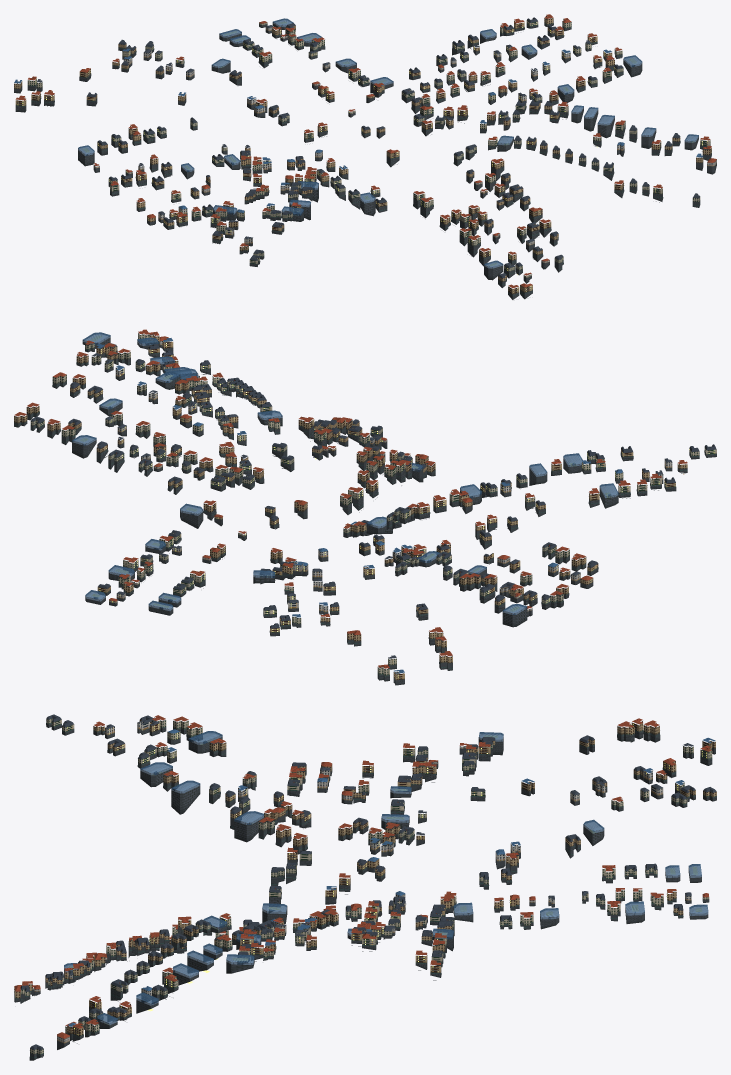
File: osm_buildings_T_E00_S02_Q4.glb
3 views of the same model, one above another, from view 1: azimuth 30°, elevation 25°; view 2: azimuth 150°, elevation 25°; view 3: azimuth 270°, elevation 25° (orthographic). The views are drawn at different scales.
Visible parts, largest first — view 1: OSM_T_E00_S02_Q4_foundation, OSM_T_E00_S02_Q4_wall_french_ochre, OSM_T_E00_S02_Q4_wall_cream_stucco, OSM_T_E00_S02_Q4_roof_terracotta, OSM_T_E00_S02_Q4_roof_mansard_slate, OSM_T_E00_S02_Q4_greenhouse_blend, OSM_T_E00_S02_Q4_roof_mansard_deck, OSM_T_E00_S02_Q4_roof_mint_metal, OSM_T_E00_S02_Q4_balcony_railing, OSM_T_E00_S02_Q4_wall_warm_white, OSM_T_E00_S02_Q4_trim_cornice, OSM_T_E00_S02_Q4_wall_pastel_sand (+1 smaller); view 2: OSM_T_E00_S02_Q4_foundation, OSM_T_E00_S02_Q4_wall_french_ochre, OSM_T_E00_S02_Q4_wall_cream_stucco, OSM_T_E00_S02_Q4_roof_terracotta, OSM_T_E00_S02_Q4_roof_mansard_slate, OSM_T_E00_S02_Q4_greenhouse_blend, OSM_T_E00_S02_Q4_roof_mansard_deck, OSM_T_E00_S02_Q4_roof_mint_metal, OSM_T_E00_S02_Q4_trim_cornice, OSM_T_E00_S02_Q4_wall_warm_white, OSM_T_E00_S02_Q4_balcony_railing, OSM_T_E00_S02_Q4_roof_alpine_blue (+2 smaller); view 3: OSM_T_E00_S02_Q4_foundation, OSM_T_E00_S02_Q4_wall_french_ochre, OSM_T_E00_S02_Q4_wall_cream_stucco, OSM_T_E00_S02_Q4_greenhouse_blend, OSM_T_E00_S02_Q4_roof_terracotta, OSM_T_E00_S02_Q4_roof_mansard_slate, OSM_T_E00_S02_Q4_roof_mansard_deck, OSM_T_E00_S02_Q4_roof_mint_metal, OSM_T_E00_S02_Q4_trim_cornice, OSM_T_E00_S02_Q4_wall_warm_white, OSM_T_E00_S02_Q4_roof_alpine_blue, OSM_T_E00_S02_Q4_wall_pastel_sand (+2 smaller).
Part boxes in pixels (x1,y1,x2,y2): OSM_T_E00_S02_Q4_foundation: [14, 23, 716, 299]; OSM_T_E00_S02_Q4_wall_french_ochre: [14, 16, 711, 294]; OSM_T_E00_S02_Q4_wall_cream_stucco: [27, 19, 710, 277]; OSM_T_E00_S02_Q4_roof_terracotta: [15, 14, 716, 288]; OSM_T_E00_S02_Q4_roof_mansard_slate: [37, 17, 700, 278]; OSM_T_E00_S02_Q4_greenhouse_blend: [78, 18, 698, 268]; OSM_T_E00_S02_Q4_roof_mansard_deck: [78, 17, 698, 276]; OSM_T_E00_S02_Q4_roof_mint_metal: [16, 23, 708, 295]; OSM_T_E00_S02_Q4_balcony_railing: [17, 24, 711, 292]; OSM_T_E00_S02_Q4_wall_warm_white: [93, 27, 624, 245]; OSM_T_E00_S02_Q4_trim_cornice: [17, 18, 716, 290]; OSM_T_E00_S02_Q4_wall_pastel_sand: [123, 36, 716, 263]; OSM_T_E00_S02_Q4_foundation: [14, 337, 716, 685]; OSM_T_E00_S02_Q4_wall_french_ochre: [14, 335, 687, 680]; OSM_T_E00_S02_Q4_wall_cream_stucco: [30, 333, 716, 675]; OSM_T_E00_S02_Q4_roof_terracotta: [14, 329, 687, 668]; OSM_T_E00_S02_Q4_roof_mansard_slate: [31, 344, 716, 658]; OSM_T_E00_S02_Q4_greenhouse_blend: [72, 332, 618, 614]; OSM_T_E00_S02_Q4_roof_mansard_deck: [32, 339, 715, 626]; OSM_T_E00_S02_Q4_roof_mint_metal: [14, 343, 716, 676]; OSM_T_E00_S02_Q4_trim_cornice: [19, 334, 716, 674]; OSM_T_E00_S02_Q4_wall_warm_white: [115, 368, 663, 611]; OSM_T_E00_S02_Q4_balcony_railing: [16, 334, 715, 669]; OSM_T_E00_S02_Q4_roof_alpine_blue: [97, 338, 622, 673]; OSM_T_E00_S02_Q4_foundation: [14, 723, 716, 1060]; OSM_T_E00_S02_Q4_wall_french_ochre: [14, 720, 716, 1036]; OSM_T_E00_S02_Q4_wall_cream_stucco: [20, 717, 712, 1054]; OSM_T_E00_S02_Q4_greenhouse_blend: [64, 731, 708, 1025]; OSM_T_E00_S02_Q4_roof_terracotta: [14, 715, 711, 1038]; OSM_T_E00_S02_Q4_roof_mansard_slate: [20, 715, 716, 1050]; OSM_T_E00_S02_Q4_roof_mansard_deck: [22, 714, 714, 1047]; OSM_T_E00_S02_Q4_roof_mint_metal: [15, 723, 716, 1058]; OSM_T_E00_S02_Q4_trim_cornice: [16, 718, 711, 1052]; OSM_T_E00_S02_Q4_wall_warm_white: [68, 721, 691, 996]; OSM_T_E00_S02_Q4_roof_alpine_blue: [67, 729, 715, 1026]; OSM_T_E00_S02_Q4_wall_pastel_sand: [34, 726, 663, 1043].
Bounding box in the file's own units: 972 × 269 × 941.
Materials: 16 (16 with a texture image).
